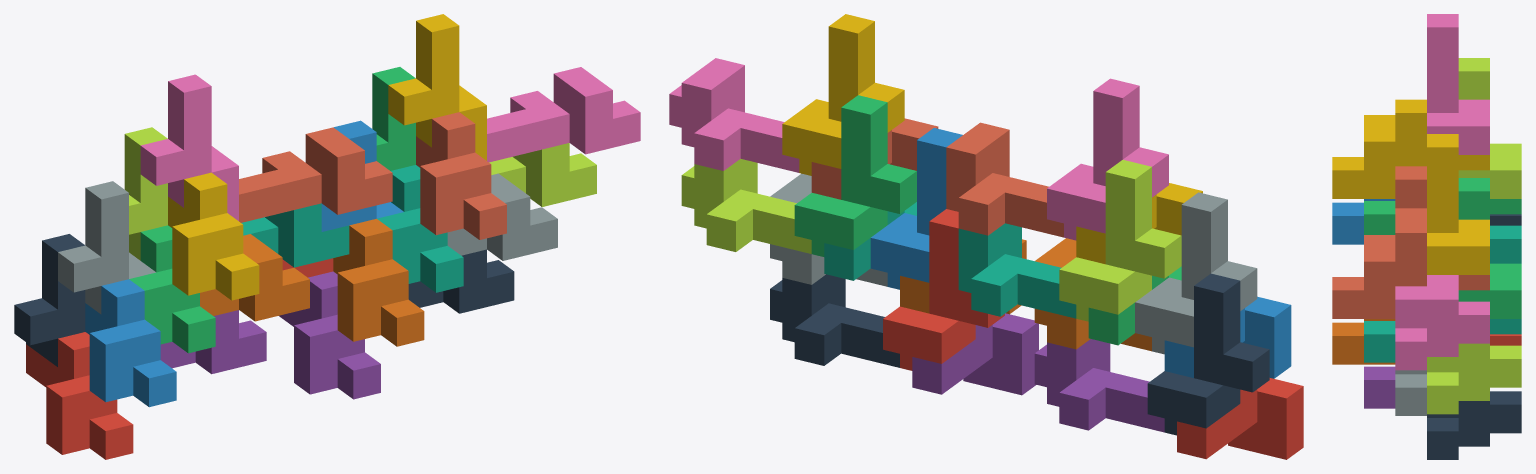
File: tiling.obj
3 renders of one model, left to right at view 1: azimuth 30°, elevation 25°; view 2: azimuth 150°, elevation 25°; view 3: azimuth 270°, elevation 25°, orthographic. The views are drawn at different scales.
Visible parts, largest first — view 1: copy_3_domain_4, copy_3_domain_8, copy_1_domain_2, copy_1_domain_4, copy_1_domain_8, copy_1_domain_6, copy_1_domain_1, copy_2_domain_8, copy_2_domain_4, copy_1_domain_5, copy_2_domain_2, copy_1_domain_3 (+11 smaller); view 2: copy_2_domain_7, copy_2_domain_3, copy_2_domain_1, copy_3_domain_8, copy_2_domain_8, copy_2_domain_2, copy_3_domain_4, copy_2_domain_4, copy_2_domain_5, copy_3_domain_7, copy_3_domain_1, copy_3_domain_5 (+12 smaller); view 3: copy_3_domain_8, copy_1_domain_4, copy_1_domain_8, copy_2_domain_8, copy_2_domain_4, copy_3_domain_7, copy_3_domain_5, copy_2_domain_7, copy_2_domain_3, copy_1_domain_7, copy_3_domain_4, copy_1_domain_3 (+7 smaller).
Boxes of the visible parts, x1,y1,x2,y2 form: copy_3_domain_4: [239, 127, 392, 222]; copy_3_domain_8: [487, 67, 640, 162]; copy_1_domain_2: [85, 279, 176, 407]; copy_1_domain_4: [168, 172, 259, 300]; copy_1_domain_8: [416, 112, 506, 239]; copy_1_domain_6: [333, 218, 424, 346]; copy_1_domain_1: [26, 332, 133, 459]; copy_2_domain_8: [388, 14, 486, 160]; copy_2_domain_4: [140, 74, 238, 220]; copy_1_domain_5: [279, 271, 380, 399]; copy_2_domain_2: [58, 181, 155, 314]; copy_1_domain_3: [129, 225, 215, 353]; copy_2_domain_7: [794, 95, 916, 256]; copy_2_domain_3: [1059, 160, 1181, 321]; copy_2_domain_1: [1147, 273, 1269, 435]; copy_3_domain_8: [669, 58, 799, 172]; copy_2_domain_8: [782, 14, 904, 175]; copy_2_domain_2: [1135, 192, 1257, 354]; copy_3_domain_4: [946, 122, 1063, 237]; copy_2_domain_4: [1047, 78, 1168, 240]; copy_2_domain_5: [883, 209, 1004, 370]; copy_3_domain_7: [681, 158, 811, 253]; copy_3_domain_1: [1034, 339, 1164, 432]; copy_3_domain_5: [770, 274, 899, 367]; copy_3_domain_8: [1395, 275, 1489, 370]; copy_1_domain_4: [1332, 99, 1489, 198]; copy_1_domain_8: [1332, 219, 1489, 318]; copy_2_domain_8: [1427, 134, 1489, 274]; copy_2_domain_4: [1427, 14, 1489, 154]; copy_3_domain_7: [1427, 343, 1521, 414]; copy_3_domain_5: [1427, 391, 1521, 459]; copy_2_domain_7: [1458, 178, 1521, 318]; copy_2_domain_3: [1458, 58, 1521, 198]; copy_1_domain_7: [1364, 319, 1521, 362]; copy_3_domain_4: [1395, 166, 1426, 219]; copy_1_domain_3: [1364, 199, 1521, 234].
Size of the model in its own units: 21 by 11 by 6.
